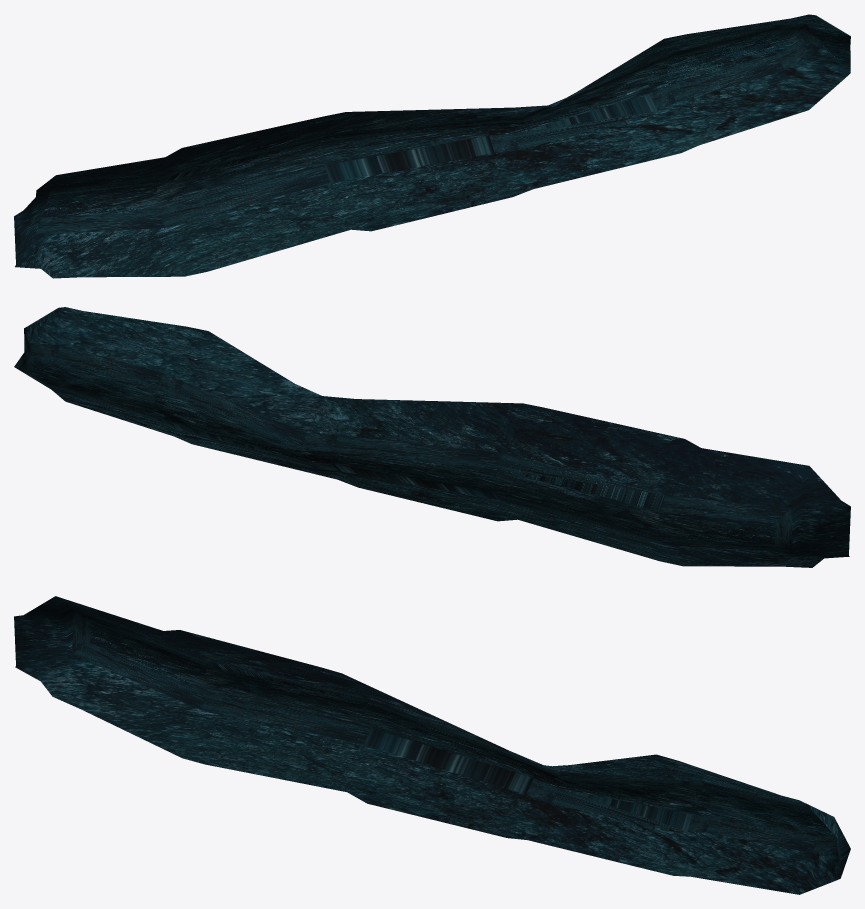
The model's file is floor_right_corner.fbx.
3 renders of one model, top to bottom at view 1: azimuth 30°, elevation 25°; view 2: azimuth 150°, elevation 25°; view 3: azimuth 330°, elevation 25°, orthographic.
Parts seen in each view (by area): view 1: Sklála; view 2: Sklála; view 3: Sklála.
Boxes of the visible parts, box(x1,y1,x2,y2) form: Sklála: box(14, 14, 850, 278); Sklála: box(14, 307, 850, 567); Sklála: box(14, 596, 850, 894).
Size of the model in its own units: 1549 by 236 by 88.17.
1 material, 1 textured.
